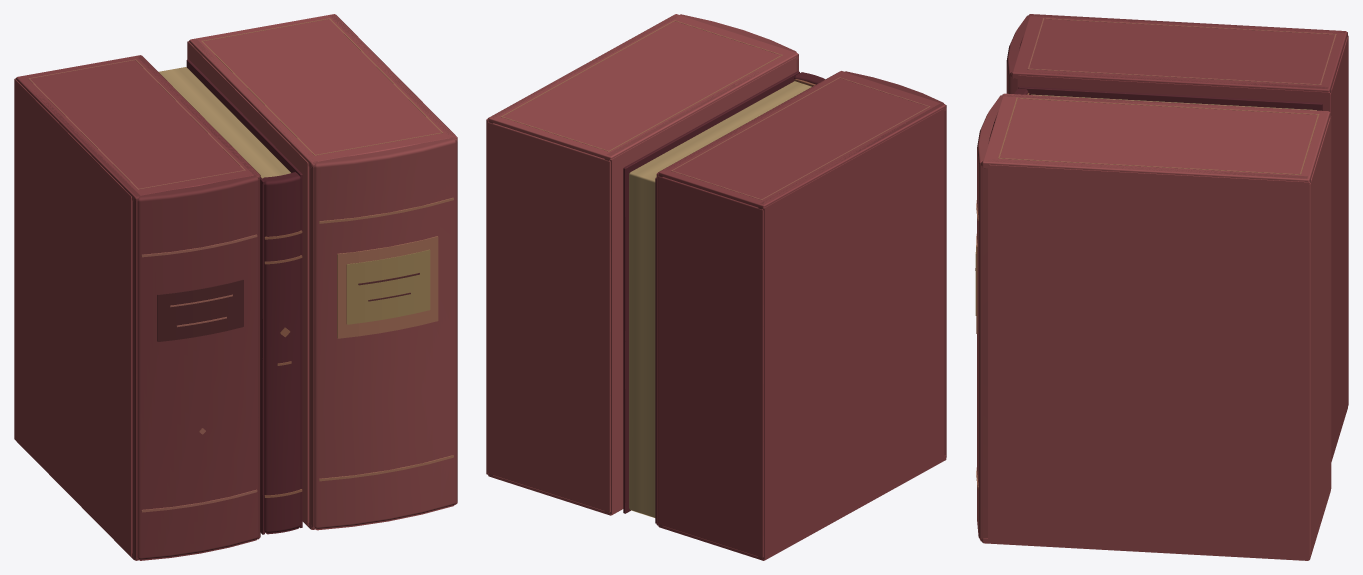
The model's file is SM_BunkerStudyRoseFolios.fbx.
The picture shows the model from 3 angles, left to right: view 1: azimuth 30°, elevation 25°; view 2: azimuth 150°, elevation 25°; view 3: azimuth 270°, elevation 25°; orthographic projection. The views are drawn at different scales.
Parts seen in each view (by area): view 1: SM_BunkerStudyRoseFolios; view 2: SM_BunkerStudyRoseFolios; view 3: SM_BunkerStudyRoseFolios.
Part boxes in pixels (x1=…): SM_BunkerStudyRoseFolios: x1=14, y1=14, x2=457, y2=560; SM_BunkerStudyRoseFolios: x1=486, y1=14, x2=946, y2=560; SM_BunkerStudyRoseFolios: x1=975, y1=14, x2=1348, y2=560.
Size of what is drawn, in the model's own units: 24.62 by 22.75 by 25.7.
